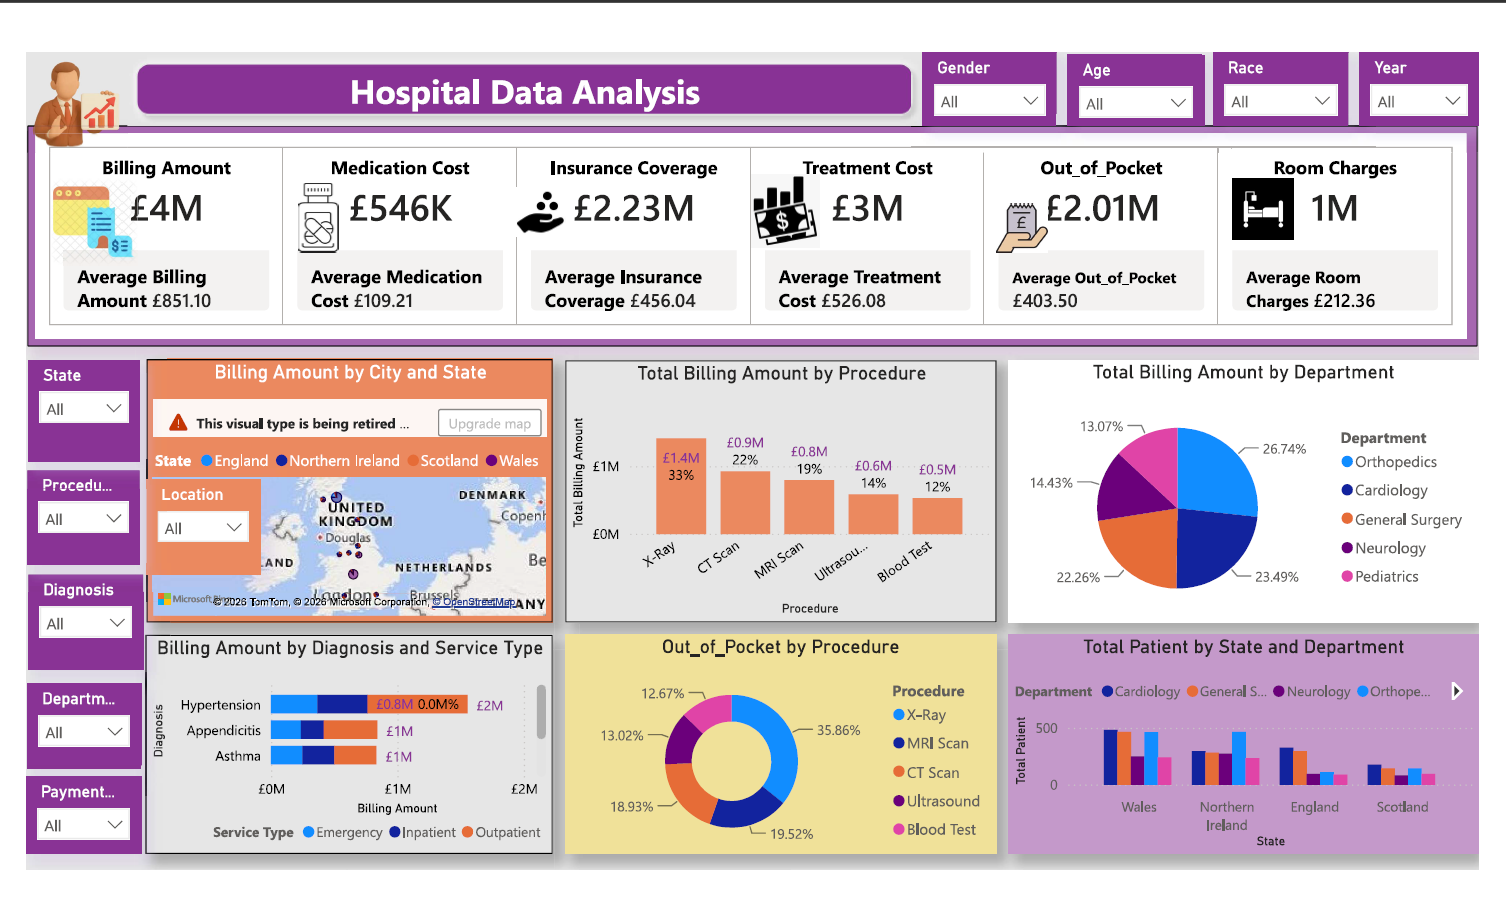

What the dashboard file says about the page in this screenshot:
{"tool":"powerbi","page":{"name":"Dashboard","canvas":[1280,720],"ordinal":0},"visuals":[{"type":"cardVisual","fields":{"Data":["Date Table.Total Billing Amount","Dax Calculations.Total Medication Cost","Dax Calculations.Total Insurance Coverage","Dax Calculations.Total Treatment Cost","Date Table.Out_of_Pocket","visits.Total Room Charges"]},"box":[1.2,63.9,1277.6,195.4],"z":0},{"type":"shape","box":[89.3,1.2,700.9,62.7],"z":1000},{"type":"map","title":"Billing Amount by City and State","fields":{"Category":["cities.City"],"Series":["cities.State"],"Size":["Date Table.Total Billing Amount"]},"box":[106.2,270.2,358.3,231.6],"z":2000},{"type":"slicer","fields":{"Values":["Patient Location Switch.Patient Location Switch"]},"box":[106.2,376.4,100.1,83.2],"z":3000},{"type":"columnChart","fields":{"Category":["procedures.Procedure"],"Y":["Date Table.Total Billing Amount"]},"box":[475.3,271.4,380,230.4],"z":4000},{"type":"barChart","fields":{"Category":["diagnoses.Diagnosis"],"Series":["visits.Service Type"],"Y":["Date Table.Total Billing Amount"]},"box":[105,512.7,359.5,193],"z":5000},{"type":"slicer","fields":{"Values":["diagnoses.Diagnosis"]},"box":[2.4,459.7,100.1,83.2],"z":6000},{"type":"slicer","fields":{"Values":["procedures.Procedure"]},"box":[1.2,368,98.9,83.2],"z":7000},{"type":"pieChart","fields":{"Category":["departments.Department"],"Y":["Date Table.Total Billing Amount"]},"box":[866.2,271.4,413.8,230.4],"z":8000},{"type":"slicer","fields":{"Values":["departments.Department"]},"box":[1.2,556.2,100.1,74.8],"z":9000},{"type":"slicer","fields":{"Values":["cities.State"]},"box":[2.4,271.4,97.7,88.1],"z":10000},{"type":"donutChart","fields":{"Category":["procedures.Procedure"],"Y":["Date Table.Out_of_Pocket"]},"box":[475,513,380,193],"z":11000},{"type":"lineClusteredColumnComboChart","fields":{"Category":["cities.State"],"Series":["departments.Department"],"Y":["Dax Calculations.Total Patient"]},"box":[866,513,414,193],"z":12000},{"type":"image","box":[0,0,89.3,88.1],"z":12001},{"type":"image","box":[422,118,43.4,50.7],"z":12002},{"type":"image","box":[639.4,96.5,59.1,85.7],"z":12003},{"type":"image","box":[229.2,114.6,56.7,61.5],"z":12004},{"type":"image","box":[1058,111,63.9,54.3],"z":12005},{"type":"image","box":[2.4,111,114.6,76],"z":12006},{"type":"image","box":[846,118,61.5,43.4],"z":12007},{"type":"slicer","fields":{"Values":["visits.Payment Status"]},"box":[0,638.2,101.3,67.6],"z":12008},{"type":"slicer","fields":{"Values":["patients.Gender"]},"box":[790.2,0,118.2,63.9],"z":12009},{"type":"slicer","fields":{"Values":["providers.Age"]},"box":[918.1,2.4,119.4,61.5],"z":12010},{"type":"slicer","fields":{"Values":["patients.Race"]},"box":[1046,0,119.4,63.9],"z":12011},{"type":"slicer","fields":{"Values":["visits.Year"]},"box":[1175.1,0,105,63.9],"z":12012}]}

Visuals, with their boxes on the page's 1280x720 design canvas (x1, y1, x2, y2). These are canvas units, not pixel positions in the 1506x920 screenshot, which may show the page scaled, cropped or inside an application window:
cardVisual - Date Table.Total Billing Amount x Dax Calculations.Total Medication Cost: x1=1, y1=64, x2=1279, y2=259
shape: x1=89, y1=1, x2=790, y2=64
"Billing Amount by City and State" map: x1=106, y1=270, x2=464, y2=502
slicer - Patient Location Switch.Patient Location Switch: x1=106, y1=376, x2=206, y2=460
columnChart - procedures.Procedure x Date Table.Total Billing Amount: x1=475, y1=271, x2=855, y2=502
barChart - diagnoses.Diagnosis x visits.Service Type: x1=105, y1=513, x2=464, y2=706
slicer - diagnoses.Diagnosis: x1=2, y1=460, x2=102, y2=543
slicer - procedures.Procedure: x1=1, y1=368, x2=100, y2=451
pieChart - departments.Department x Date Table.Total Billing Amount: x1=866, y1=271, x2=1280, y2=502
slicer - departments.Department: x1=1, y1=556, x2=101, y2=631
slicer - cities.State: x1=2, y1=271, x2=100, y2=360
donutChart - procedures.Procedure x Date Table.Out_of_Pocket: x1=475, y1=513, x2=855, y2=706
lineClusteredColumnComboChart - cities.State x departments.Department: x1=866, y1=513, x2=1280, y2=706
image: x1=0, y1=0, x2=89, y2=88
image: x1=422, y1=118, x2=465, y2=169
image: x1=639, y1=96, x2=698, y2=182
image: x1=229, y1=115, x2=286, y2=176
image: x1=1058, y1=111, x2=1122, y2=165
image: x1=2, y1=111, x2=117, y2=187
image: x1=846, y1=118, x2=908, y2=161
slicer - visits.Payment Status: x1=0, y1=638, x2=101, y2=706
slicer - patients.Gender: x1=790, y1=0, x2=908, y2=64
slicer - providers.Age: x1=918, y1=2, x2=1038, y2=64
slicer - patients.Race: x1=1046, y1=0, x2=1165, y2=64
slicer - visits.Year: x1=1175, y1=0, x2=1280, y2=64
